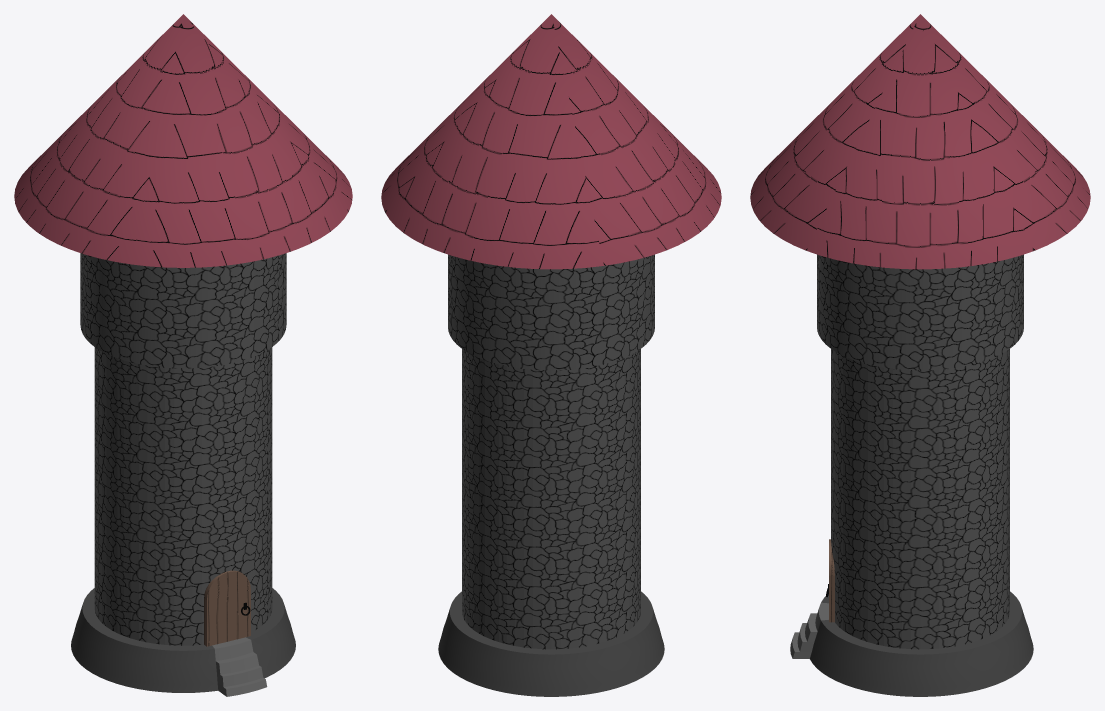
The model's file is MageTower_AlisonBrannon.fbx.
3 views of the same model, side by side, from view 1: azimuth 30°, elevation 25°; view 2: azimuth 150°, elevation 25°; view 3: azimuth 270°, elevation 25° (orthographic).
Visible parts, largest first — view 1: MageTower; view 2: MageTower; view 3: MageTower.
Part boxes in pixels (x1,y1,x2,y2): MageTower: (14, 14, 352, 696); MageTower: (381, 14, 721, 696); MageTower: (750, 14, 1090, 696).
Bounding box in the file's own units: 46.72 × 96.18 × 46.72.
Materials: 6 (3 with a texture image).
